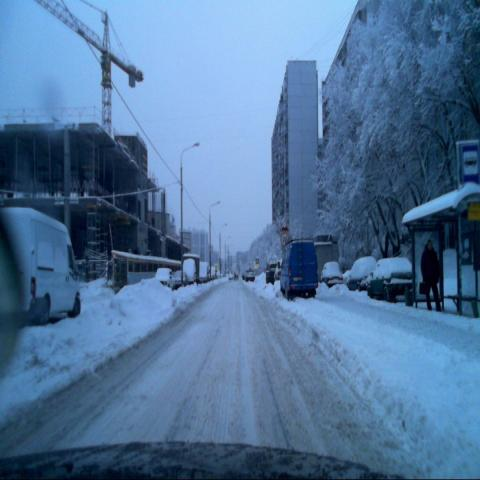5_16: (462, 145, 479, 180)
